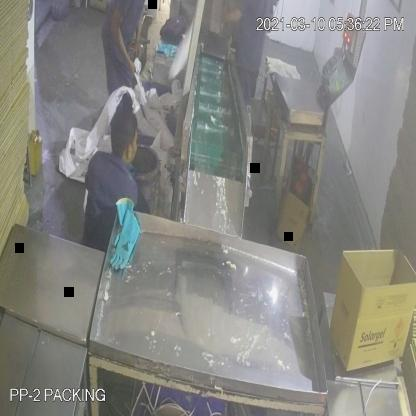no_glove: (106, 3, 140, 77)
